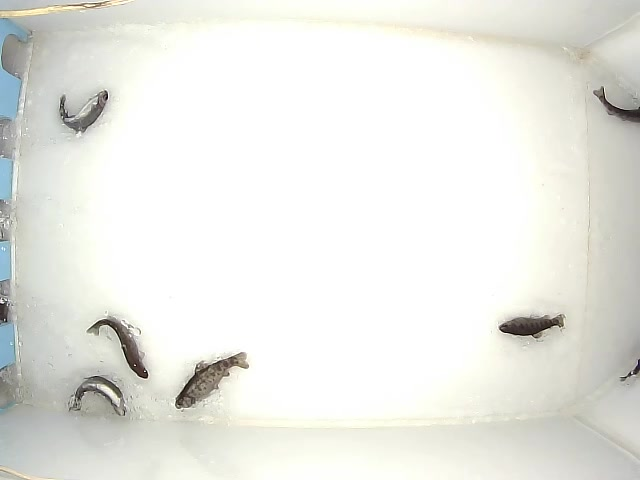fish: (174, 350, 249, 411), (85, 314, 149, 380), (67, 375, 127, 418), (58, 89, 109, 137), (498, 313, 567, 340)
